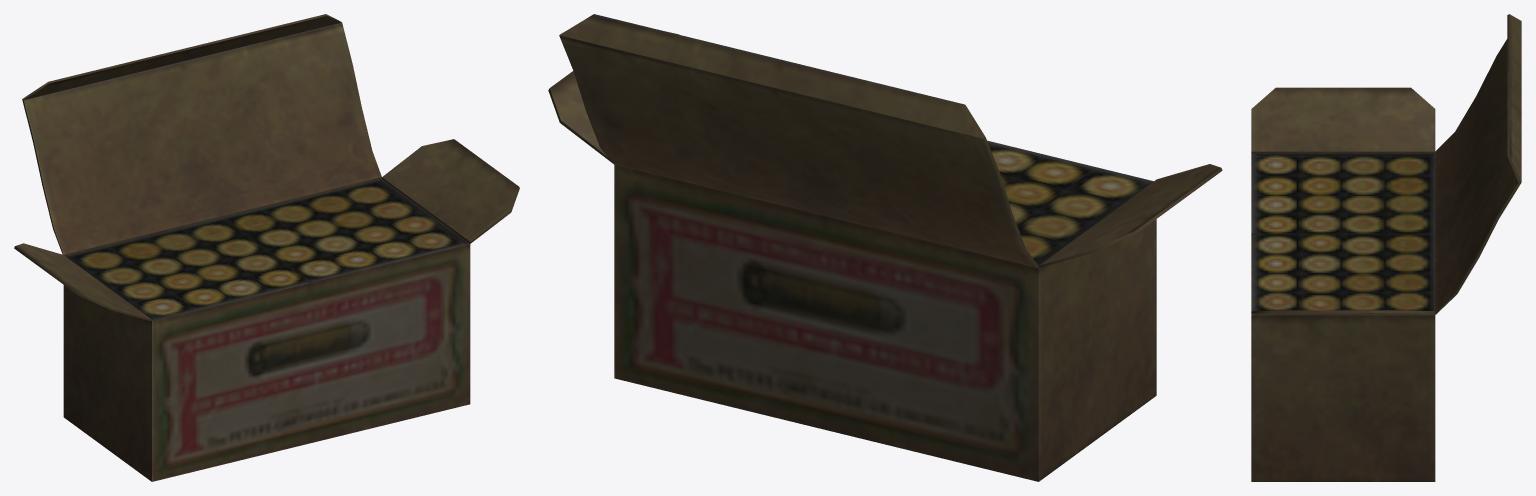
The model's file is ammo_box_mp_3.obj.
The picture shows the model from 3 angles, left to right: view 1: azimuth 30°, elevation 25°; view 2: azimuth 150°, elevation 25°; view 3: azimuth 270°, elevation 25°; orthographic projection. The views are drawn at different scales.
Parts seen in each view (by area): view 1: ammo_box_mp_3; view 2: ammo_box_mp_3; view 3: ammo_box_mp_3.
Part boxes in pixels (<box>): ammo_box_mp_3: <box>14,14,519,481</box>; ammo_box_mp_3: <box>548,14,1222,481</box>; ammo_box_mp_3: <box>1251,14,1521,481</box>.
Bounding box in the file's own units: 0.2159 × 0.1424 × 0.1101.
